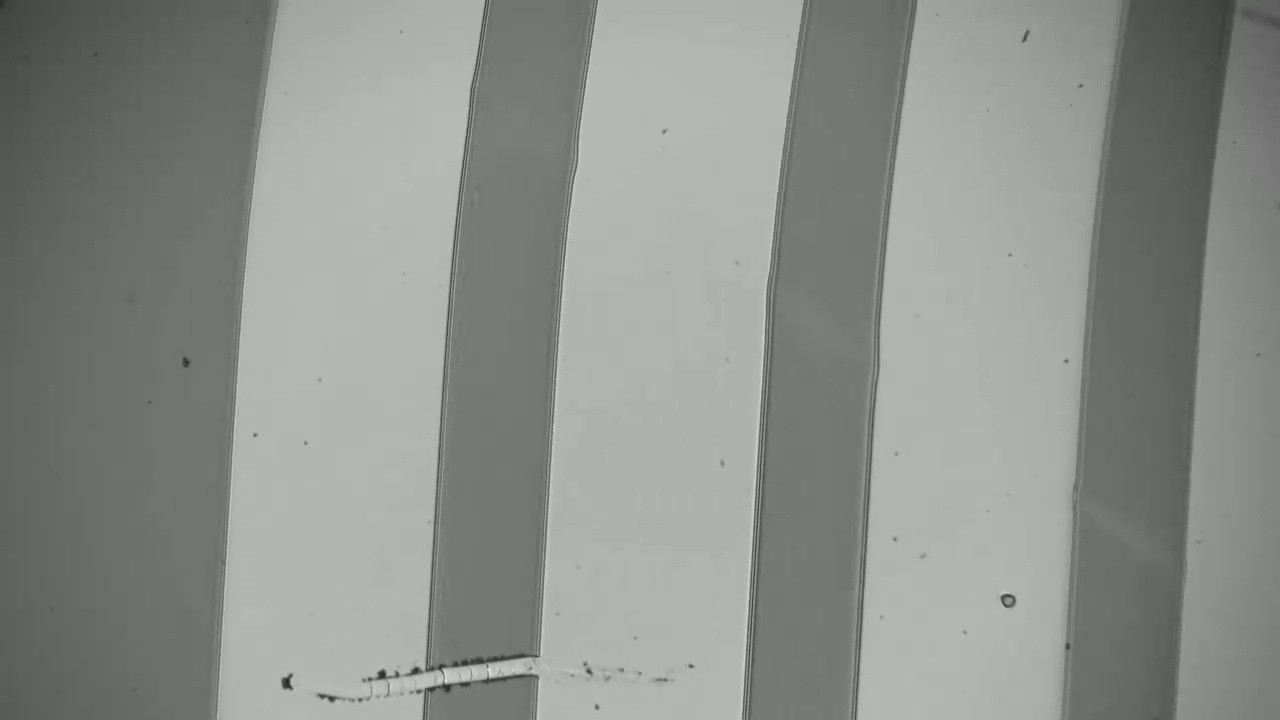Short_circuit: (394, 626, 586, 713)
